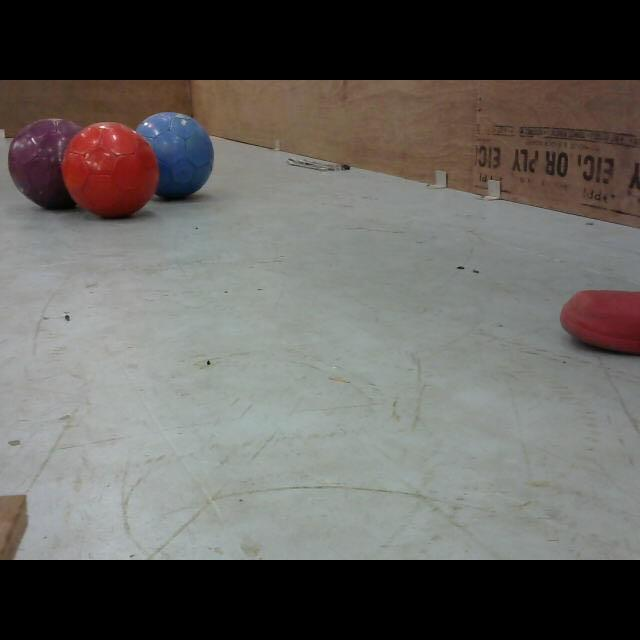B: (134, 112, 216, 198)
P: (10, 118, 96, 210)
R: (61, 122, 160, 218)
